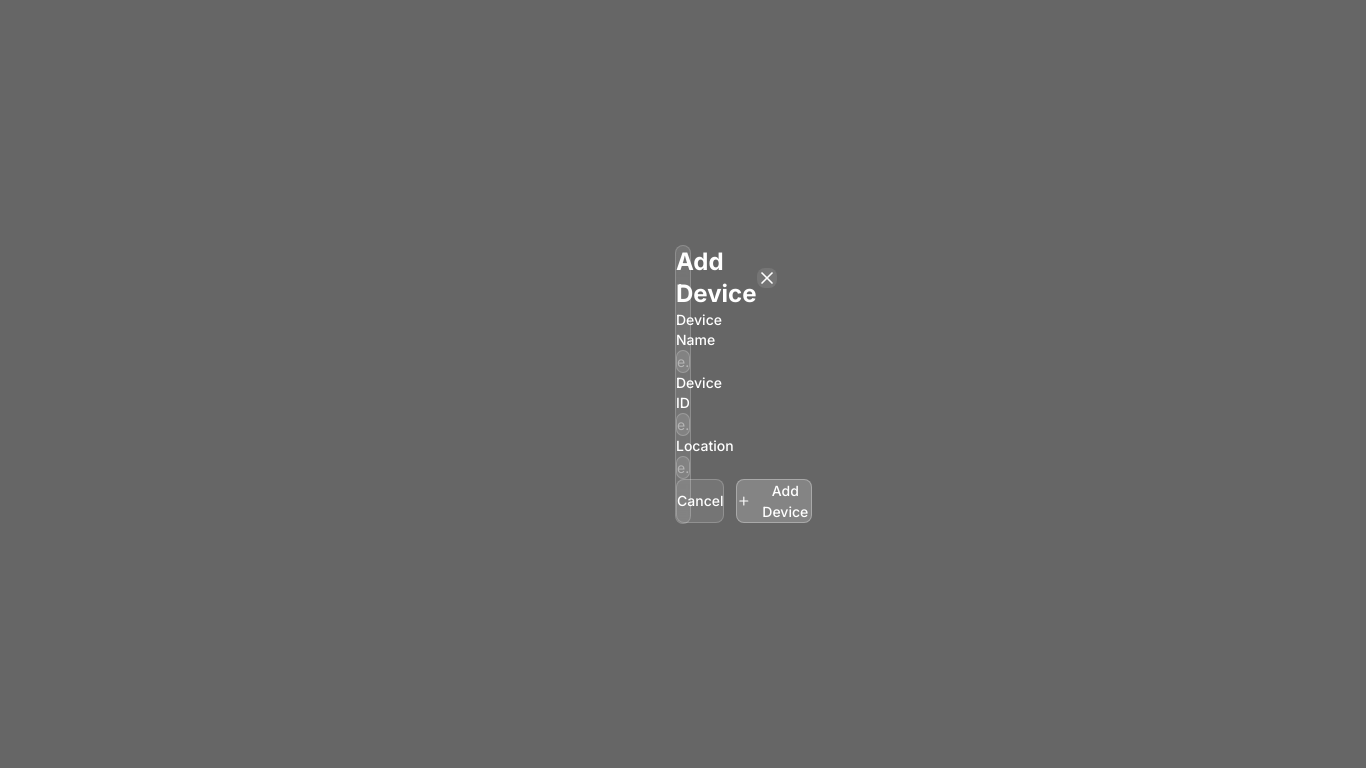
Test: AddDeviceModal › Form Validation › should show error when device ID is empty
The image size is (1366, 768).
In the field with test id "device-name-input": (683, 361) [676, 350, 690, 372], type "Test Device"
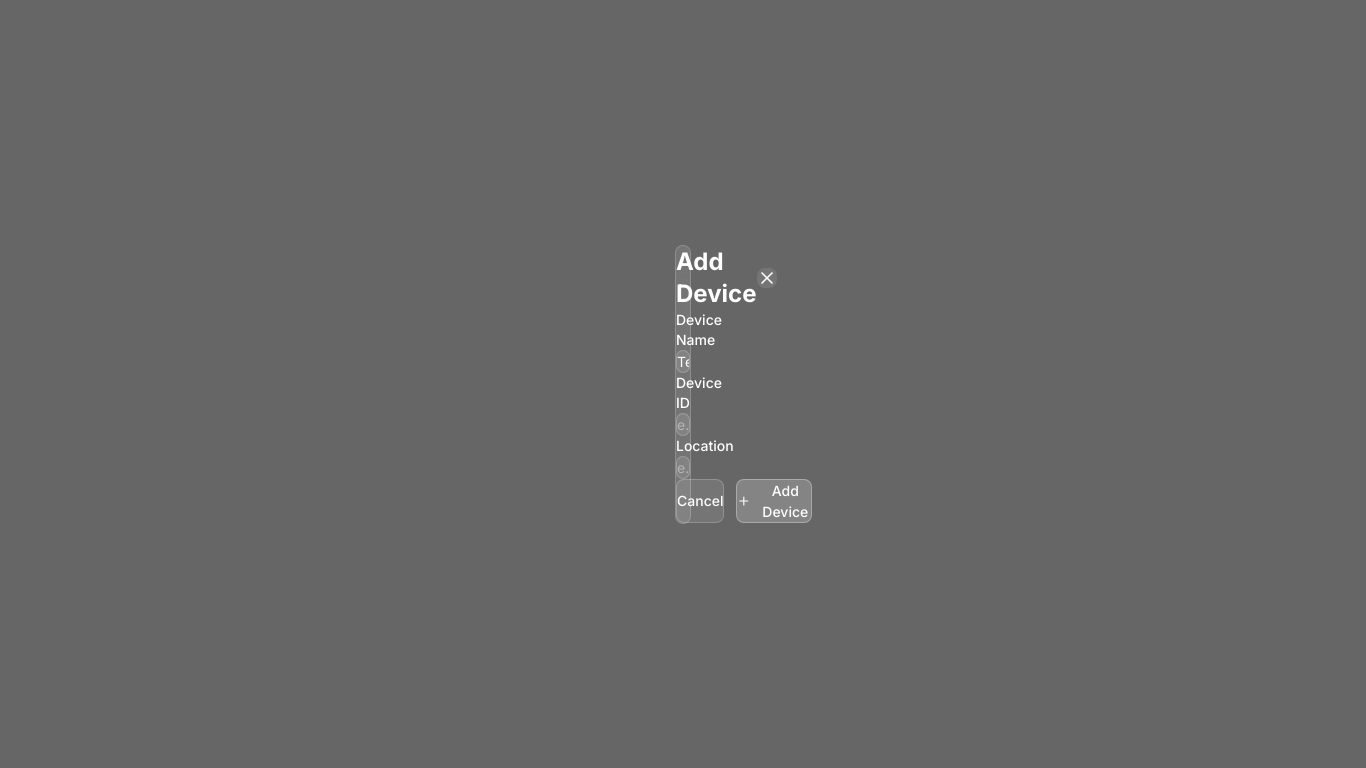
Click the button with test id "submit-button": (774, 500) [736, 478, 812, 522]
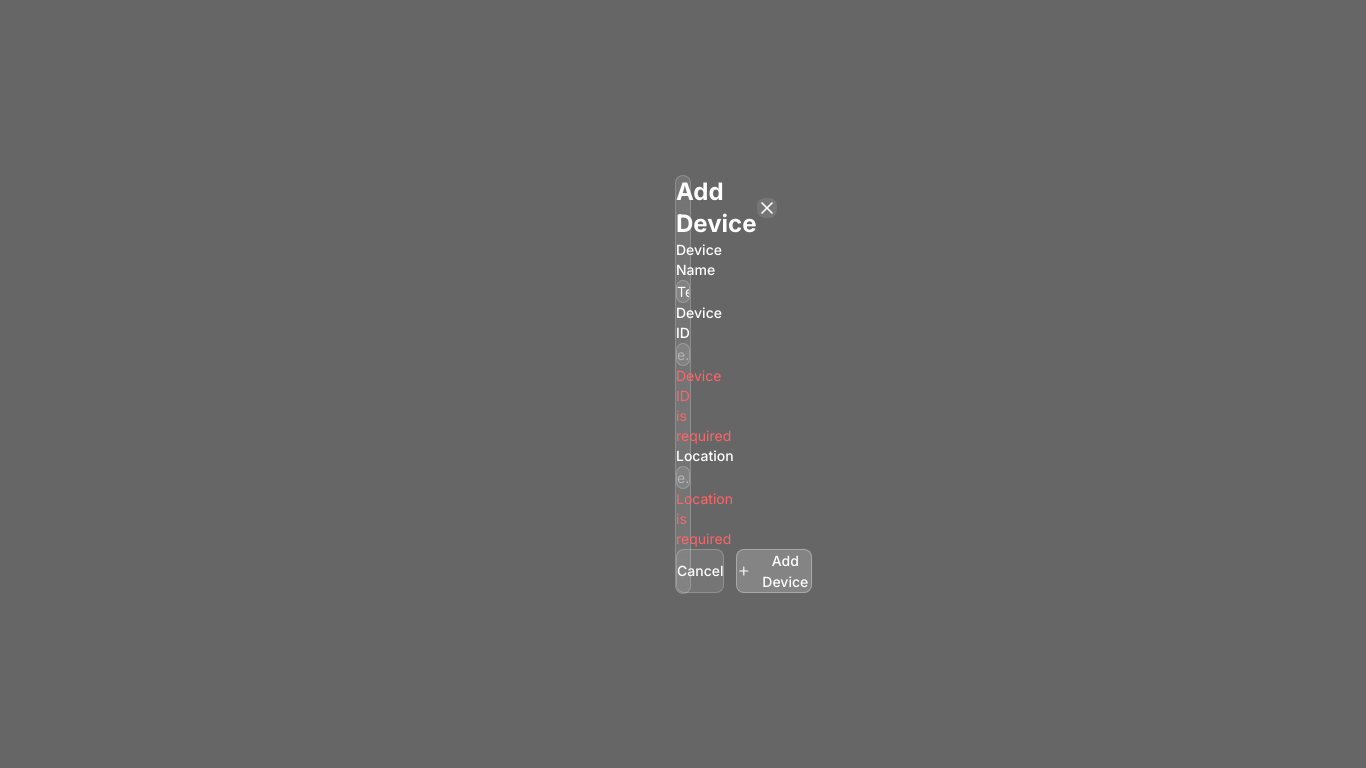
Result: the text with test id "device-id-error" reads "Device ID is required" at [676, 366, 731, 444]
